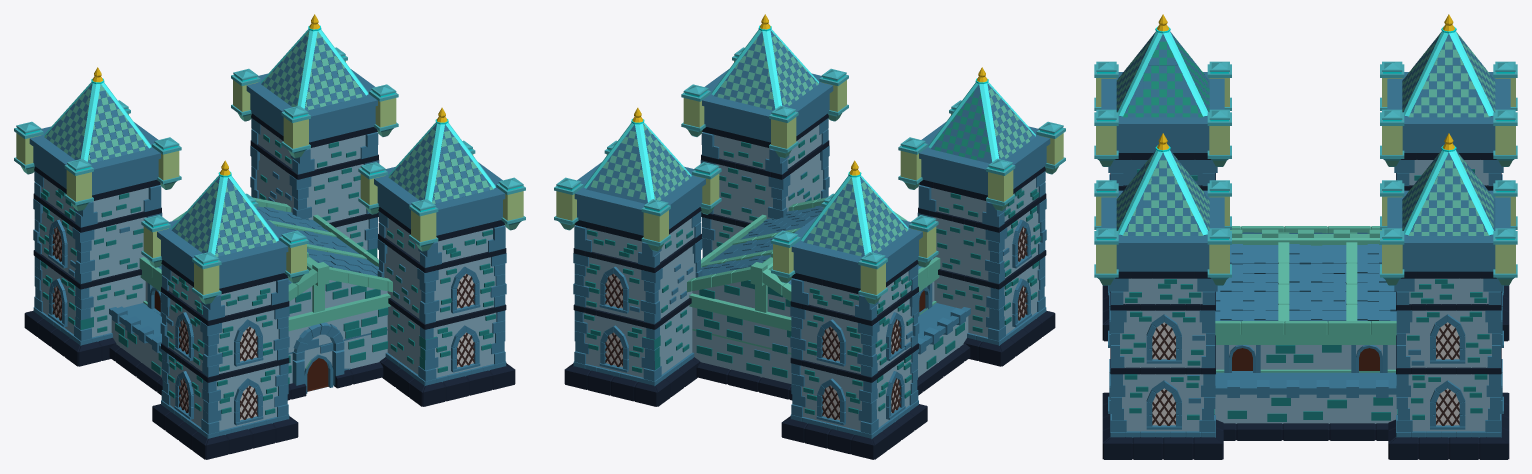
The model's file is SM_Hous_20_A.gltf.
3 renders of one model, left to right at view 1: azimuth 30°, elevation 25°; view 2: azimuth 150°, elevation 25°; view 3: azimuth 270°, elevation 25°, orthographic. The views are drawn at different scales.
Visible parts, largest first — view 1: SM_Hous_20_A; view 2: SM_Hous_20_A; view 3: SM_Hous_20_A.
Boxes of the visible parts, box(x1,y1,x2,y2) form: SM_Hous_20_A: box(14, 14, 525, 459); SM_Hous_20_A: box(554, 14, 1065, 459); SM_Hous_20_A: box(1094, 14, 1517, 459).
Size of the model in its own units: 45.44 by 36.14 by 45.97.
